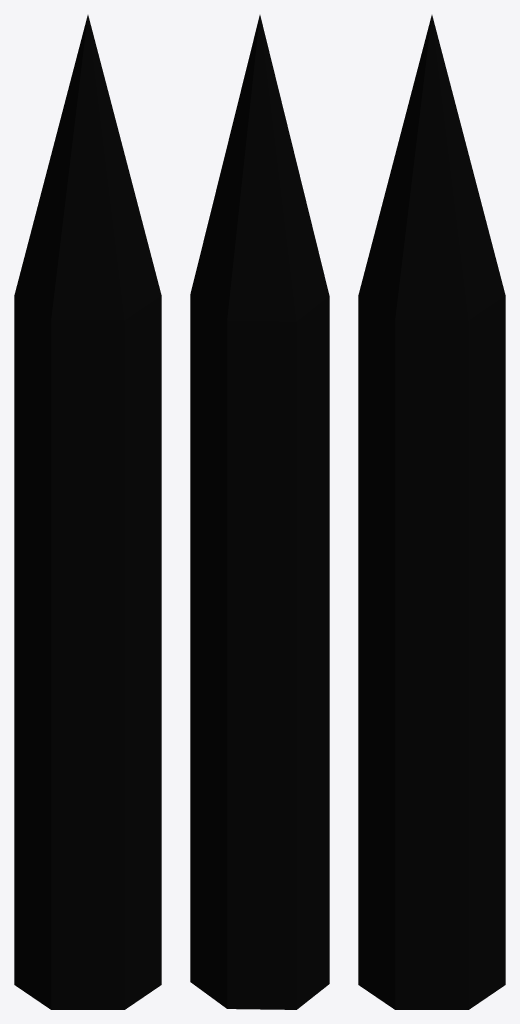
File: pinchos.fbx
3 views of the same model, side by side, from view 1: azimuth 90°, elevation 25°; view 2: azimuth 210°, elevation 25°; view 3: azimuth 270°, elevation 25° (orthographic).
Visible parts, largest first — view 1: root; view 2: root; view 3: root.
Boxes of the visible parts, x1,y1,x2,y2 form: root: [14, 15, 161, 1009]; root: [190, 15, 329, 1009]; root: [358, 15, 505, 1009].
Bounding box in the file's own units: 0.0566 × 0.512 × 0.0703.
Materials: 1 (1 with a texture image).
